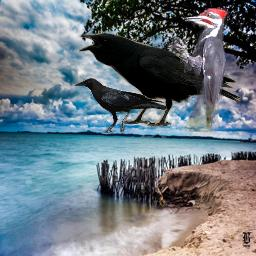Crow: (79, 33, 242, 128), (74, 77, 167, 133)
Woodpecker: (166, 8, 230, 132)
